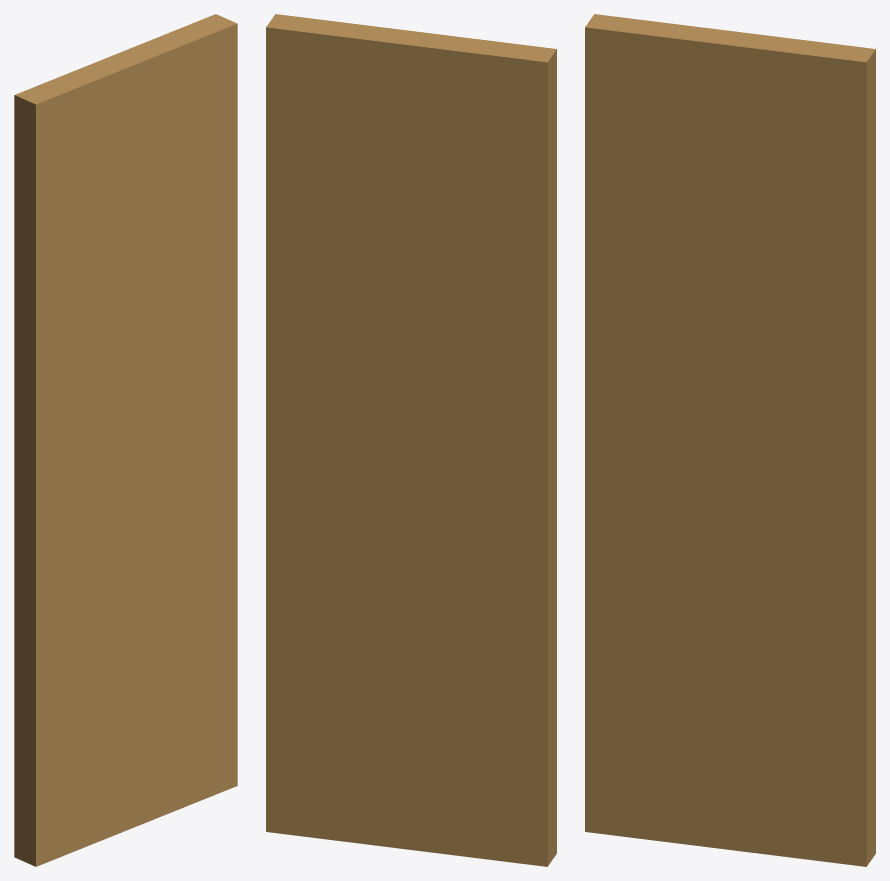
3 views of the same model, side by side, from view 1: azimuth 30°, elevation 25°; view 2: azimuth 150°, elevation 25°; view 3: azimuth 330°, elevation 25° (orthographic). The views are drawn at different scales.
Parts seen in each view (by area): view 1: FF-W043; view 2: FF-W043; view 3: FF-W043.
Part boxes in pixels (x1,y1,x2,y2): FF-W043: (14, 14, 237, 866); FF-W043: (266, 14, 556, 866); FF-W043: (585, 14, 875, 866).
Size of the model in its own units: 0.7988 by 2.42 by 0.2753.
